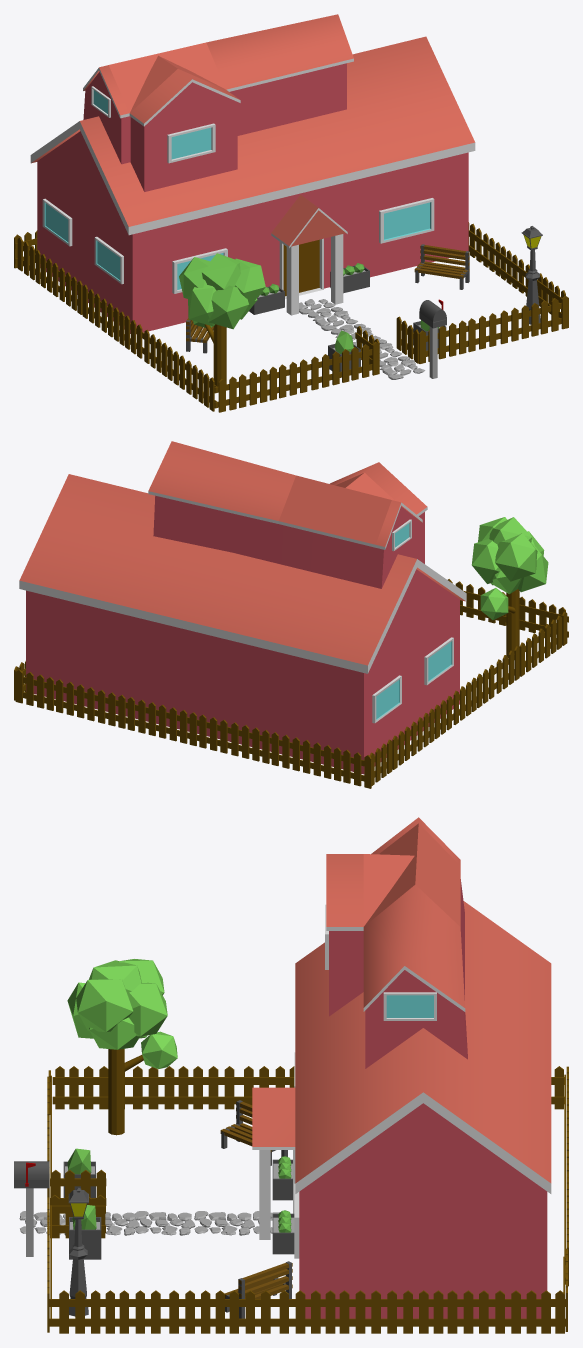
3 renders of one model, top to bottom at view 1: azimuth 30°, elevation 25°; view 2: azimuth 150°, elevation 25°; view 3: azimuth 270°, elevation 25°, orthographic. The views are drawn at different scales.
Parts seen in each view (by area): view 1: cit1_pCube16; view 2: cit1_pCube16; view 3: cit1_pCube16.
Boxes of the visible parts, x1,y1,x2,y2 form: cit1_pCube16: (14,14,568,412); cit1_pCube16: (14,441,568,788); cit1_pCube16: (14,817,568,1333).
Size of the model in its own units: 25.08 by 16.54 by 25.97.
